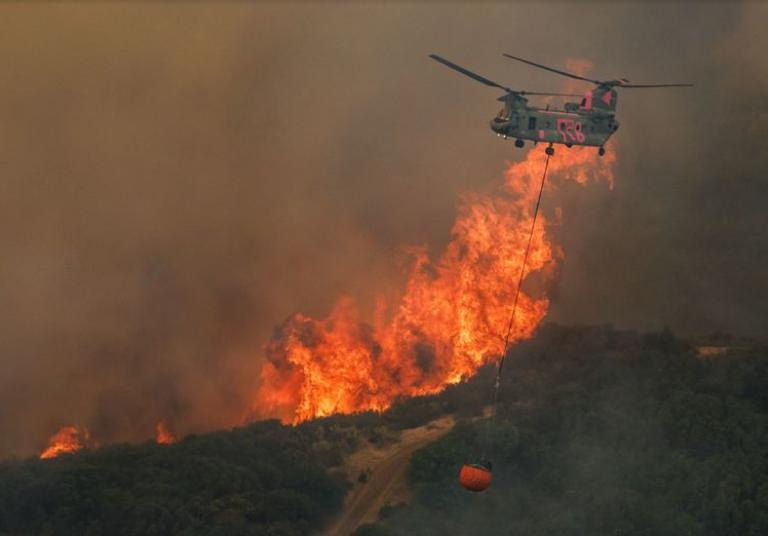Fire: (242, 138, 623, 434), (37, 424, 93, 465), (153, 420, 177, 447)
